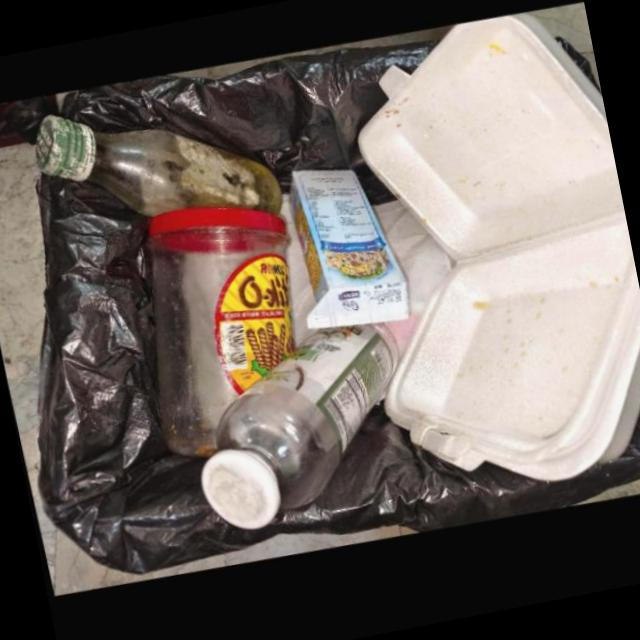chai_thuy_tinh: (201, 324, 399, 533), (143, 209, 297, 462), (36, 118, 284, 220)
vo_hop_sua: (290, 171, 409, 332)
xop: (357, 13, 640, 484)
